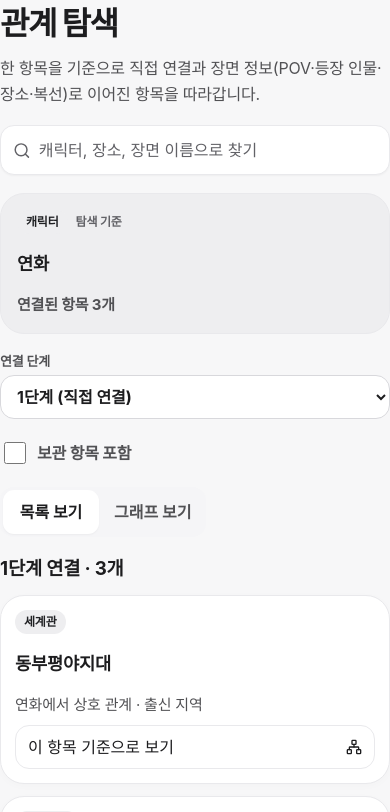
Task 13 relations page › lists a character's connections with how they connect and refocuses in history
Expected: the heading "1단계 연결 · 3개" is shown, [0,557,124,580]
Expected: the text "연결된 항목 3개" is shown, [17,295,115,314]
Click the button with aria-label "동부평야지대 기준으로 관계 보기": (101,747) [15,725,375,769]
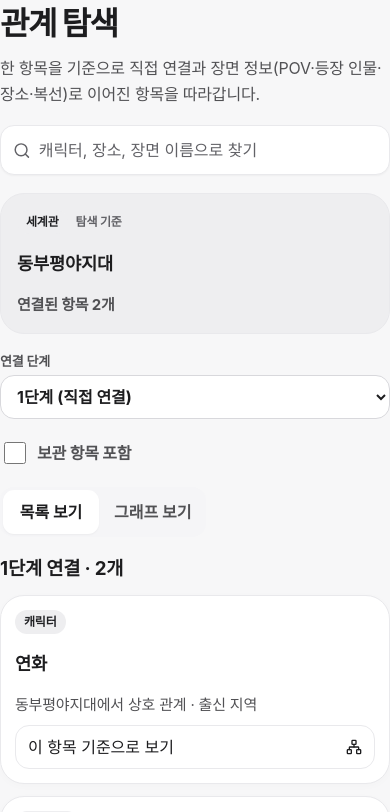
Result: the heading "동부평야지대" is shown at [17,253,113,274]
Select "2단계" in the dropdown labelled "연결 단계": (195,397) [0,375,389,419]
(page scrolled)
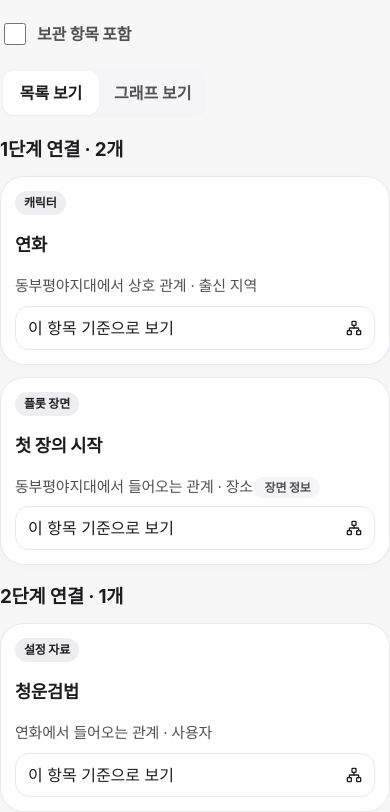
Result: the heading "2단계 연결 · 1개" is shown at [0,585,123,608]
